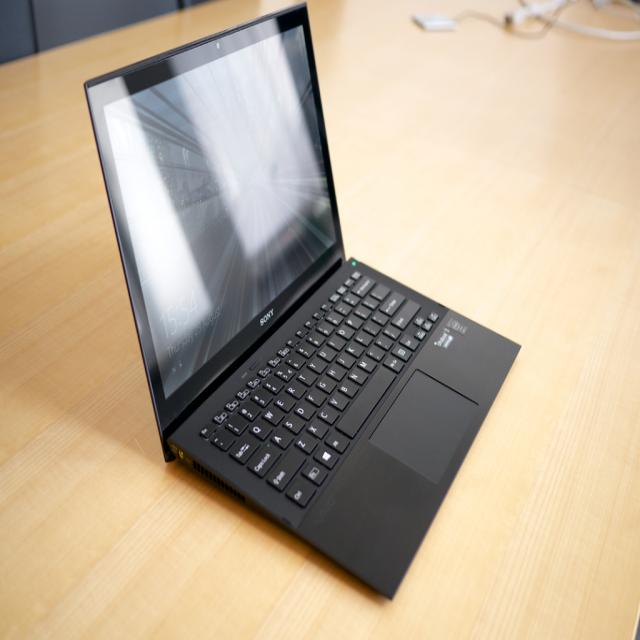desk: (0, 0, 639, 639)
laptop: (93, 5, 524, 607)
